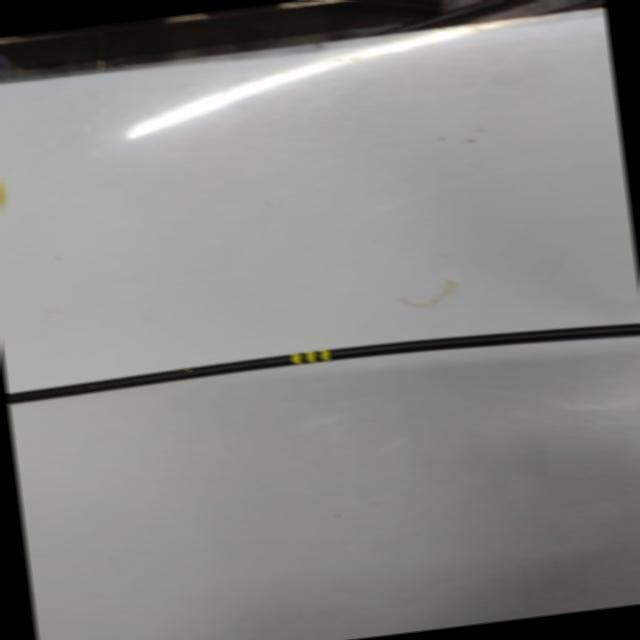yellow: (290, 348, 331, 364)
